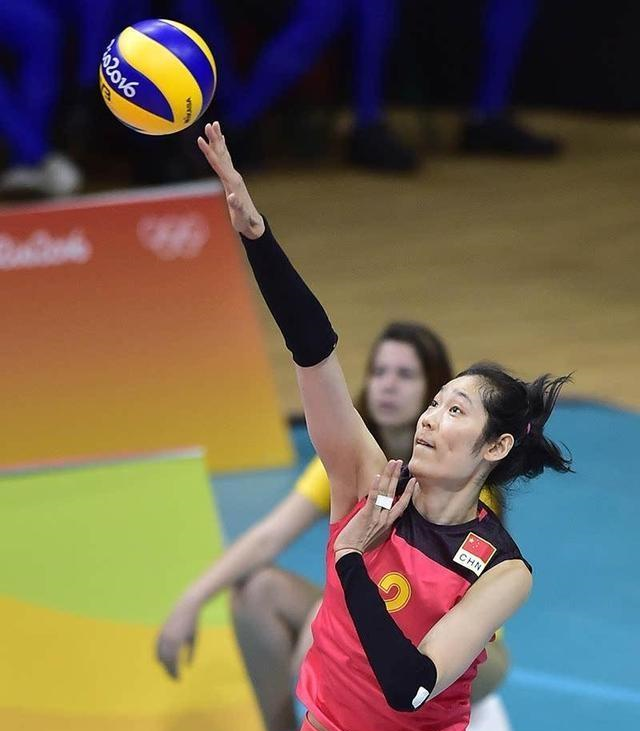ball: (98, 19, 216, 137)
